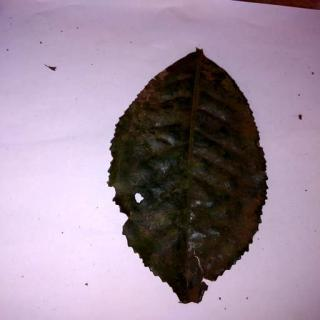Anthracnose: (109, 50, 269, 304)
